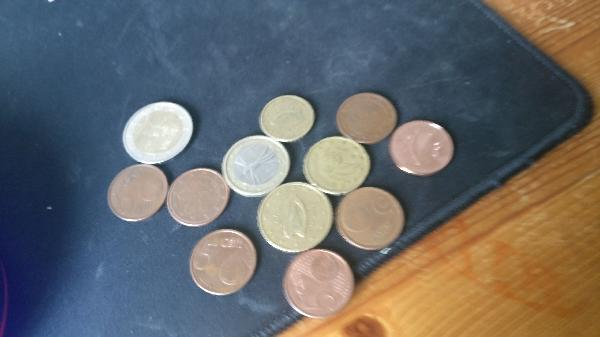Fifty Cent: (260, 183, 331, 250)
Five Cent: (279, 250, 353, 318), (189, 228, 259, 296), (338, 187, 405, 248), (103, 164, 167, 224), (167, 165, 229, 226), (390, 119, 456, 175), (334, 91, 398, 142)
One Euro: (220, 133, 287, 194)
Ten Cent: (260, 94, 317, 140)
Twenty Cent: (305, 136, 370, 194)
Two Euro: (120, 102, 193, 165)
